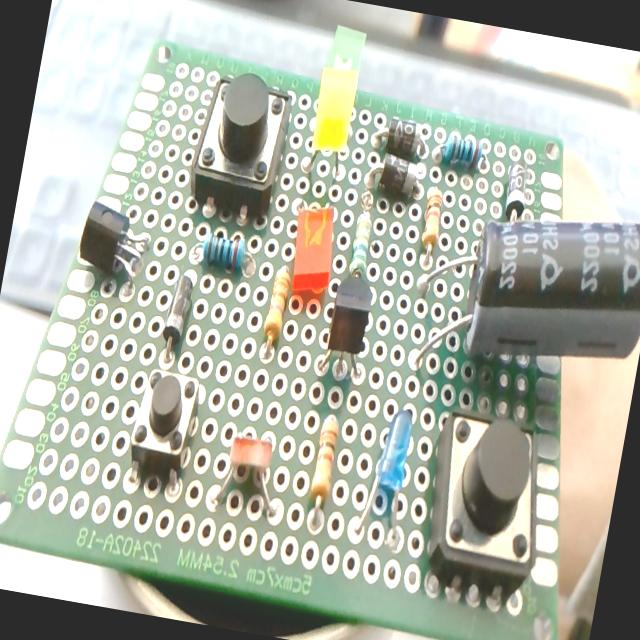Electrolytic capacitor: (411, 188, 640, 392)
cds: (207, 424, 290, 522)
diode: (359, 112, 434, 204), (158, 270, 195, 353), (376, 151, 421, 201), (382, 116, 424, 162), (501, 160, 532, 222)
led: (349, 404, 421, 546), (301, 68, 363, 186), (283, 200, 342, 299), (327, 23, 368, 74)
resistor: (302, 414, 343, 528), (260, 262, 294, 354), (194, 229, 248, 274), (415, 184, 446, 258), (436, 127, 486, 171), (346, 210, 375, 280)
switch: (412, 401, 560, 604), (180, 62, 298, 229), (124, 364, 204, 490)
transistor: (69, 198, 157, 294), (316, 273, 378, 386)
